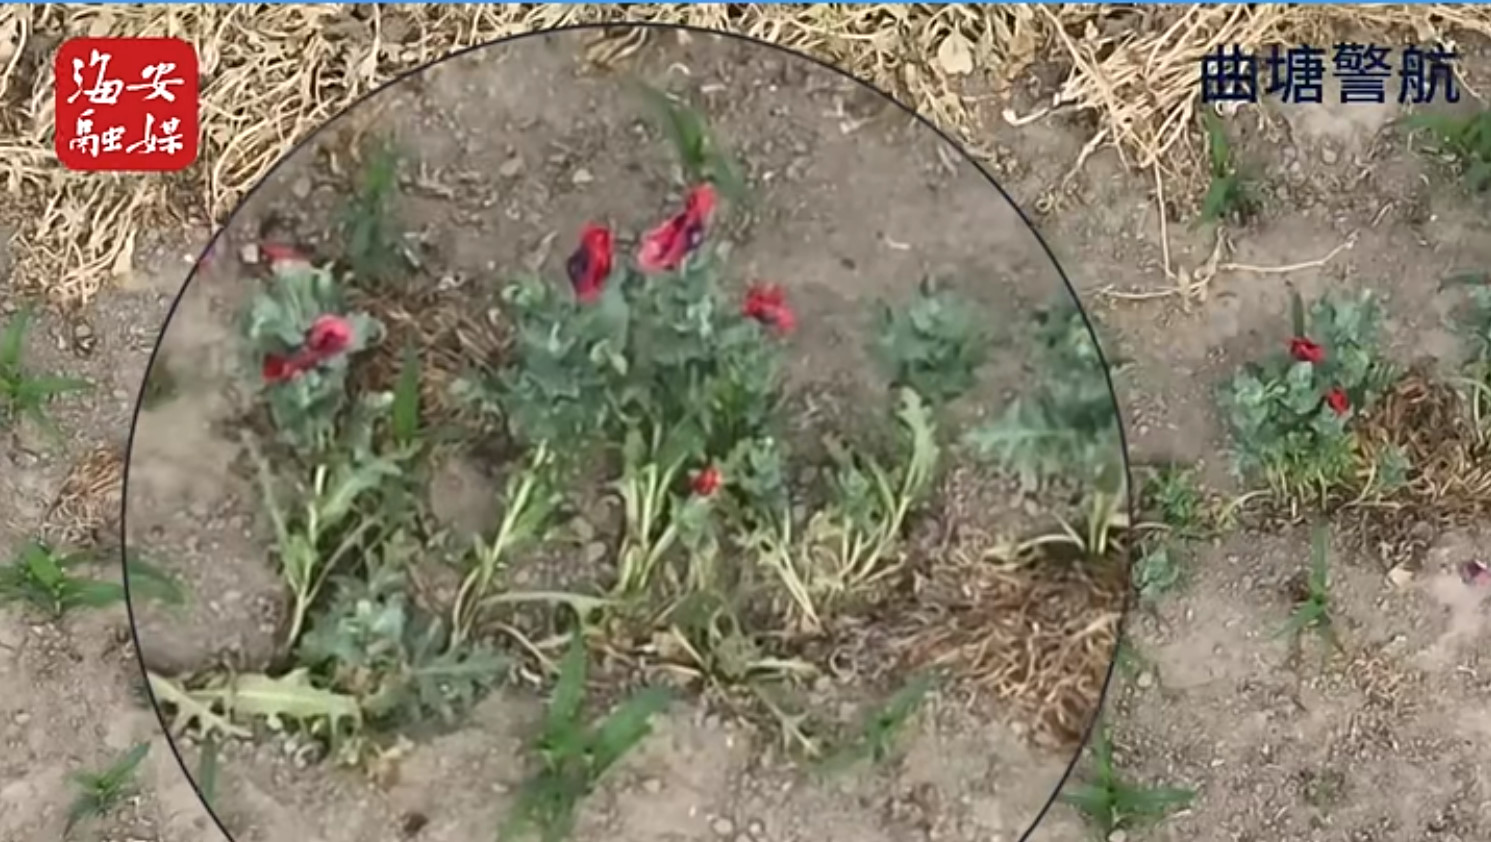Poppy: (449, 160, 809, 711), (203, 217, 450, 754), (1198, 261, 1423, 530), (806, 251, 983, 580)
